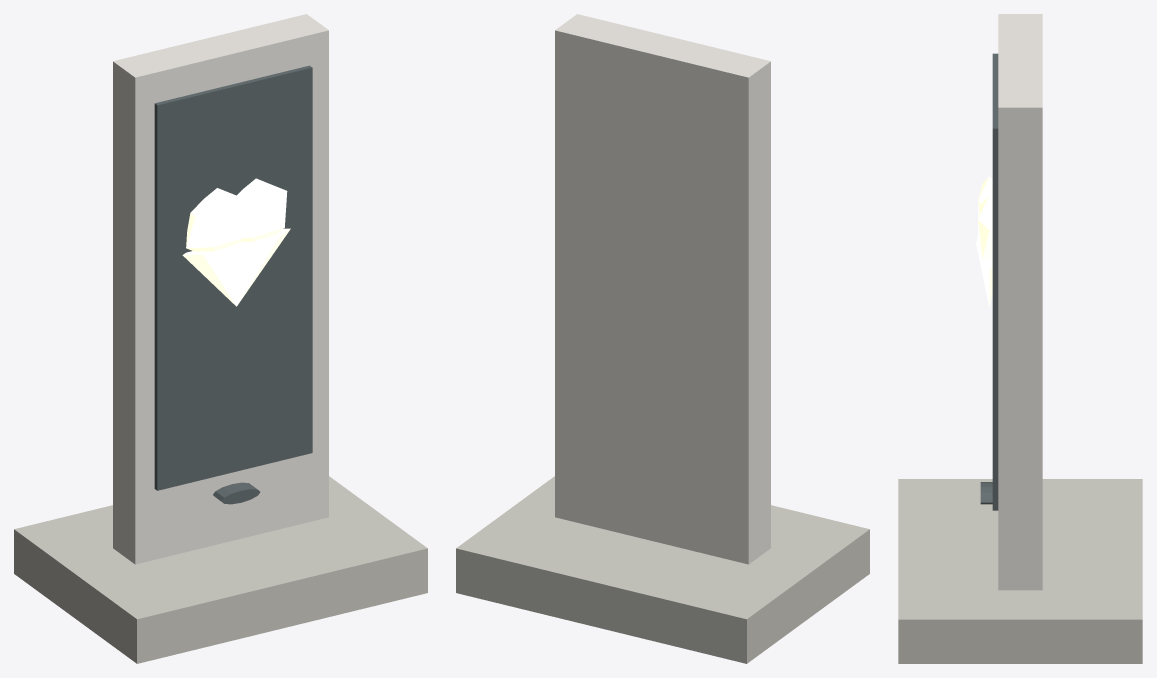
Rendered from LM06_NuanlingApp.glb.
3 renders of one model, left to right at view 1: azimuth 30°, elevation 25°; view 2: azimuth 150°, elevation 25°; view 3: azimuth 270°, elevation 25°, orthographic.
Parts seen in each view (by area): view 1: Screen, PhoneBody, Base, HeartTip, HeartL, HeartR, HomeButton; view 2: PhoneBody, Base; view 3: Base, PhoneBody, Screen, HeartR, HeartTip.
Boxes of the visible parts, box(x1,y1,x2,y2) form: Screen: box(154, 65, 312, 490); PhoneBody: box(113, 14, 328, 564); Base: box(14, 476, 427, 663); HeartTip: box(182, 228, 290, 306); HeartL: box(186, 188, 242, 251); HeartR: box(236, 178, 287, 242); HomeButton: box(213, 482, 260, 504); PhoneBody: box(555, 14, 770, 564); Base: box(456, 476, 869, 663); Base: box(898, 479, 1142, 663); PhoneBody: box(998, 14, 1042, 590); Screen: box(992, 53, 998, 510); HeartR: box(978, 195, 992, 261); HeartTip: box(976, 236, 992, 307).
Size of the model in its own units: 1.5 by 2.65 by 1.1.
